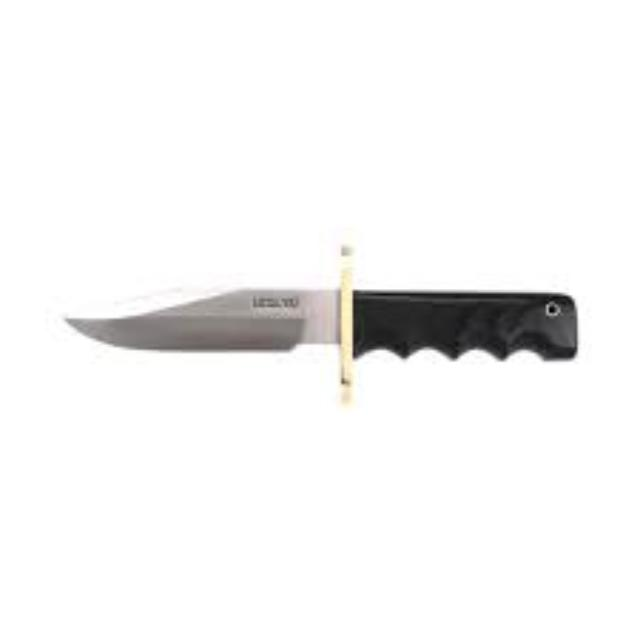Knife: (63, 284, 577, 364)
